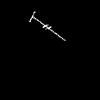treble_crochet: (30, 12, 62, 38)
